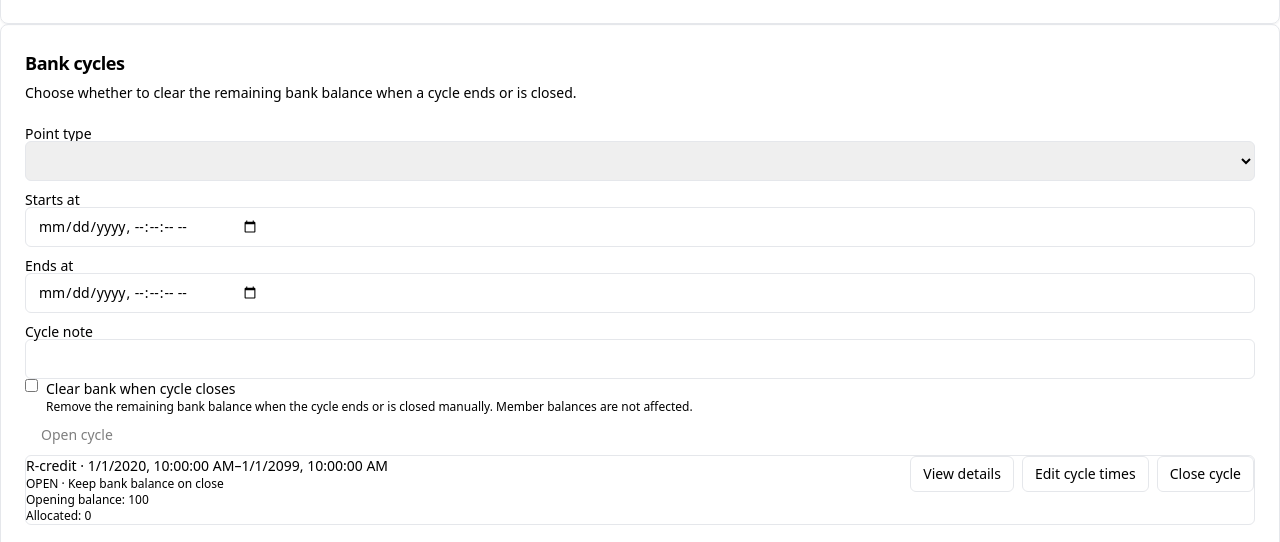
Test: shows API errors inside the form
(page scrolled)
Click the button "Edit cycle times" at (1085, 474), box x1=1022 y1=456 x2=1149 y2=492
(page scrolled)
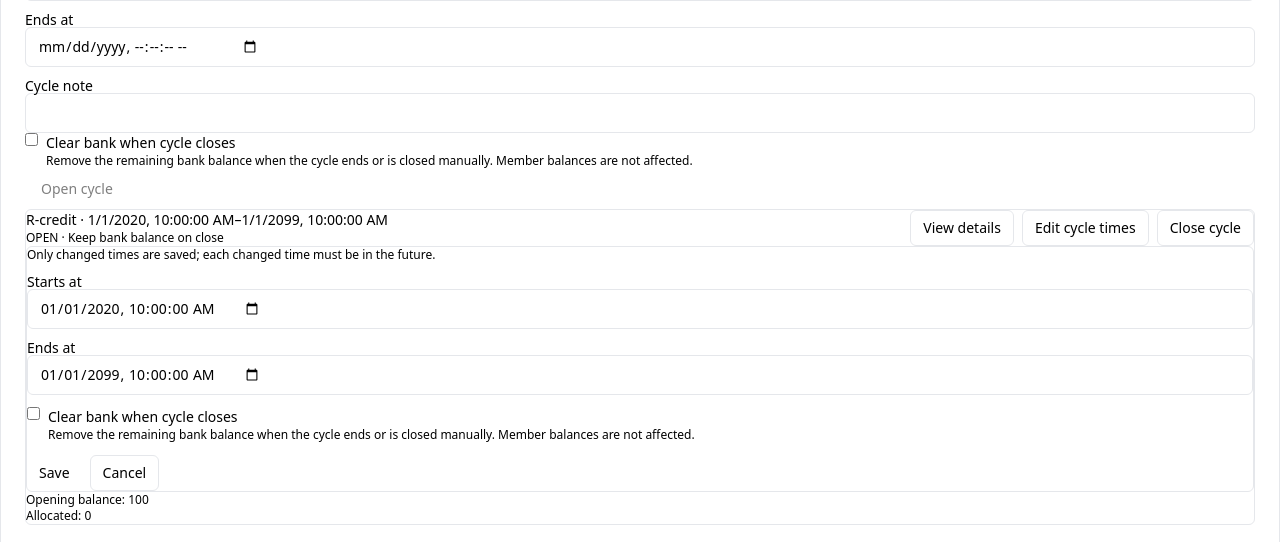
Replace the text in the field with id "edit-cycle-end-cycle-test" with "2098-01-01T10:00:00" at (640, 375), box x1=27 y1=355 x2=1253 y2=395
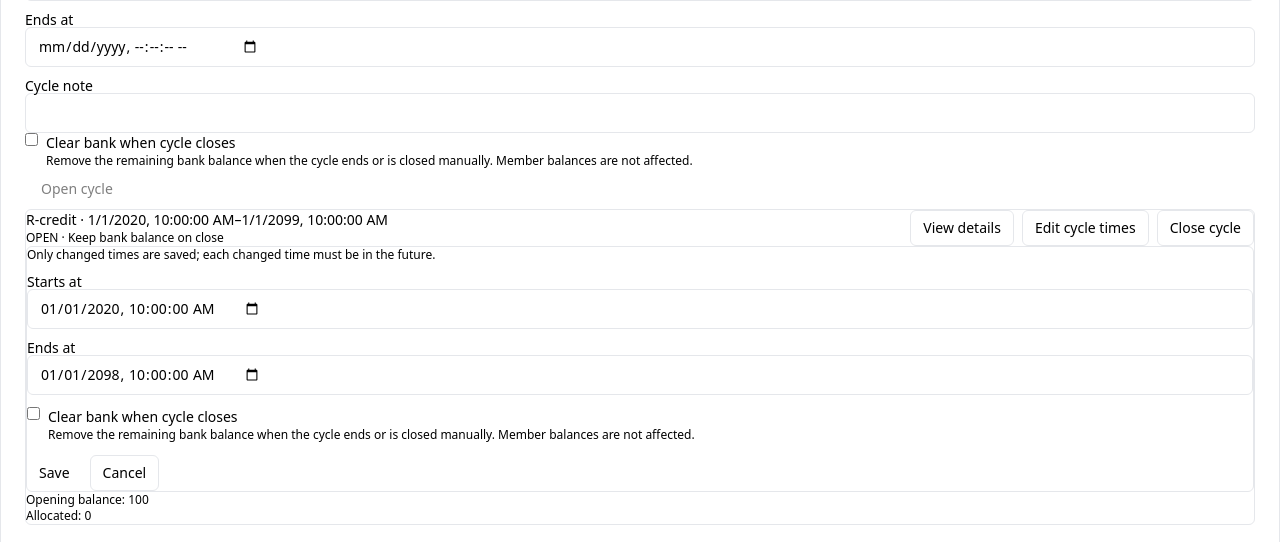
Click the button "Save" at (54, 473), box x1=27 y1=455 x2=82 y2=491
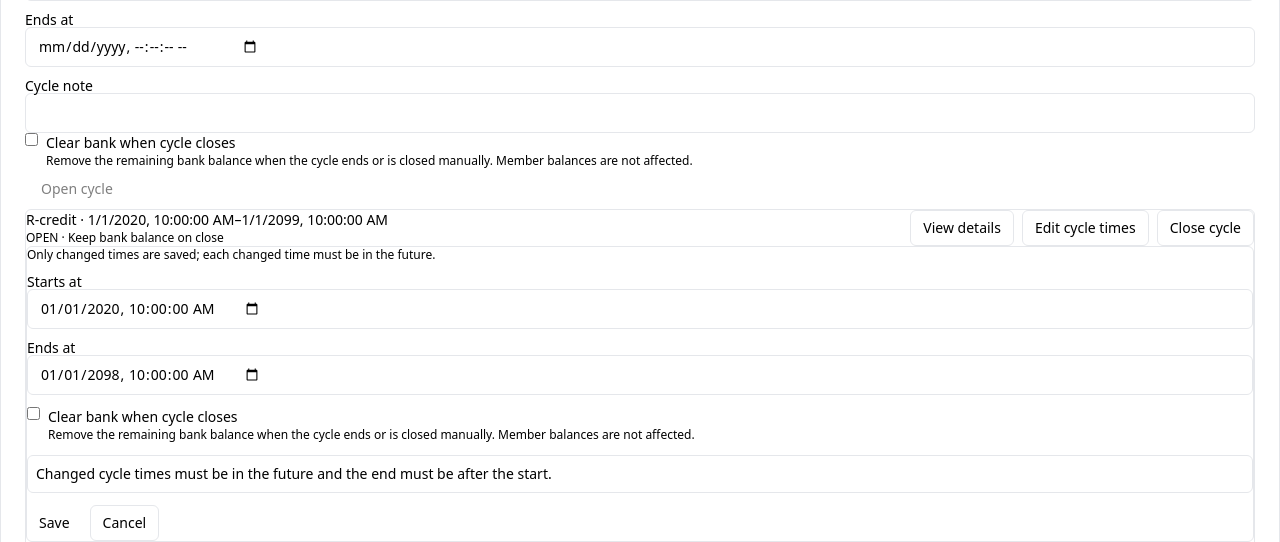
Expected: the message reads "Changed cycle times must be in the future and the end must be after the start.", x1=36 y1=464 x2=552 y2=483
